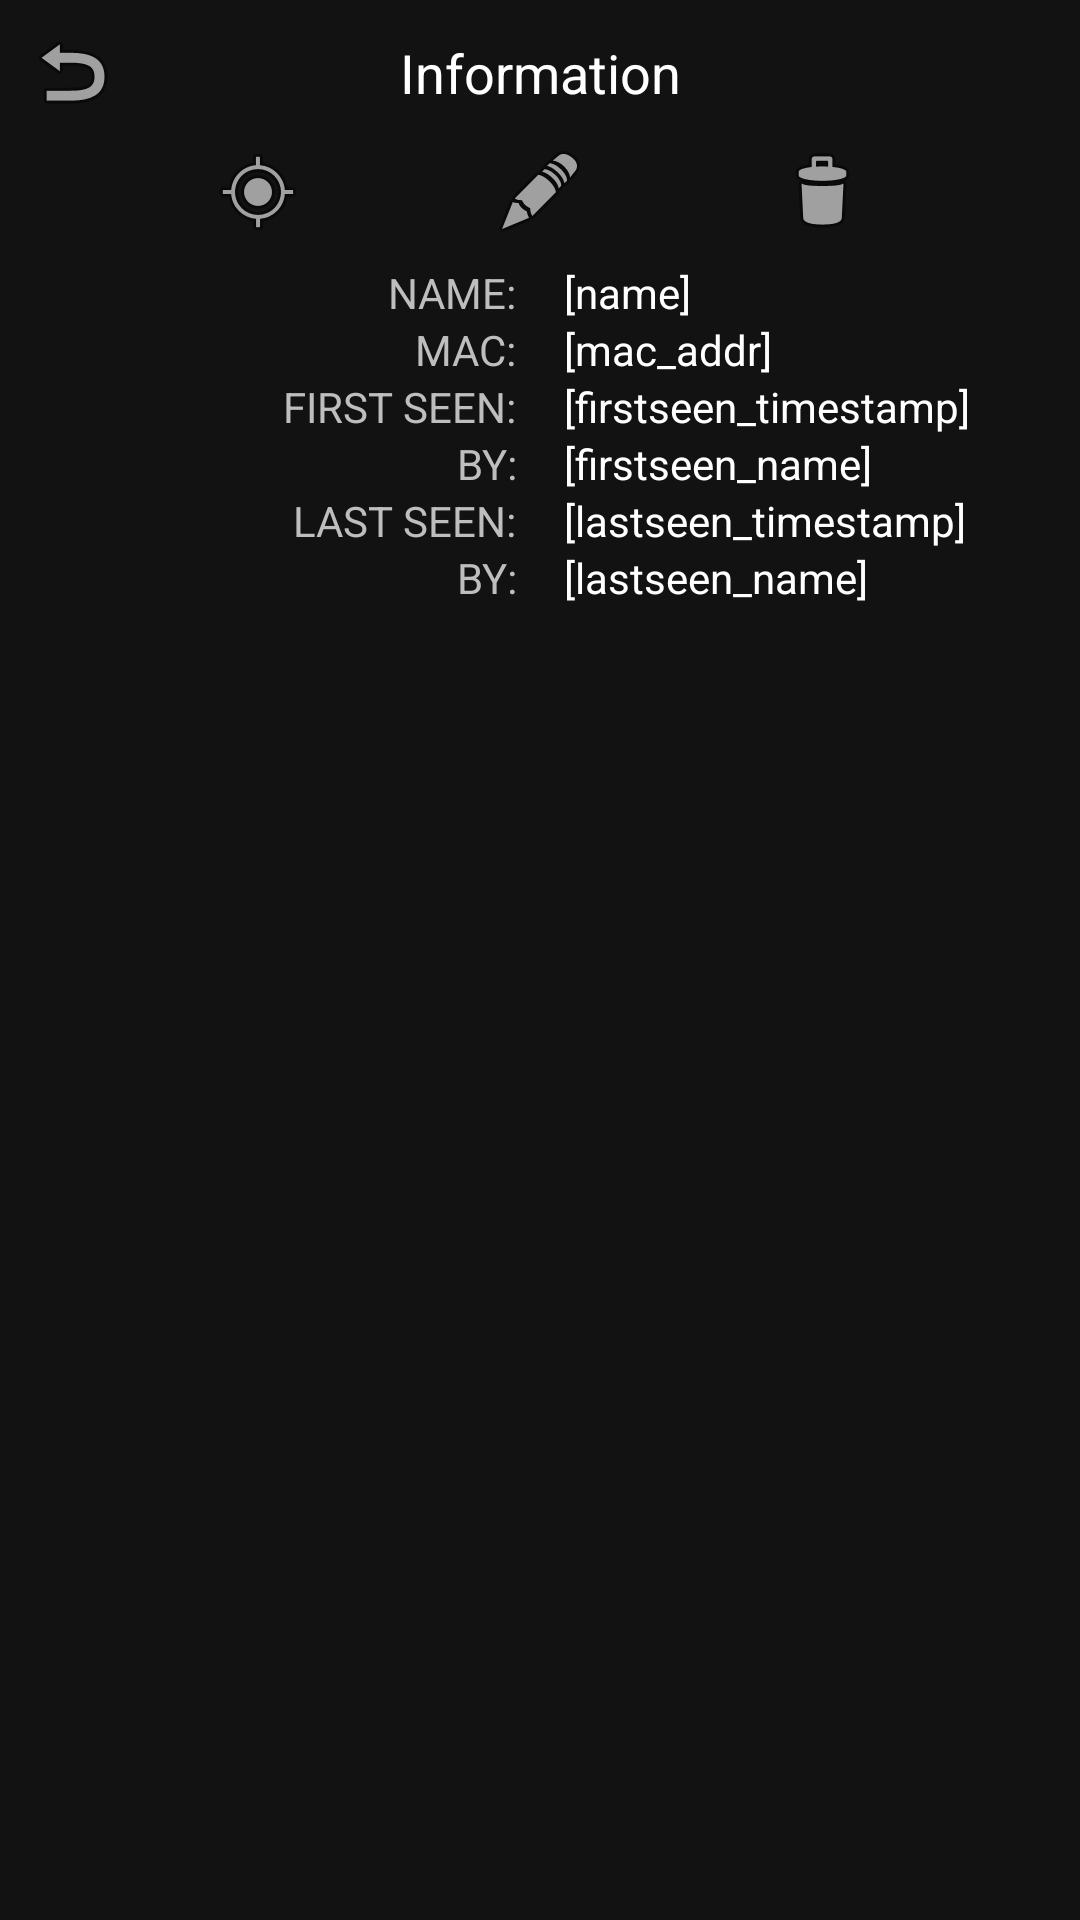

Where to tap for icons on this 1080w x 1920h app screen, as point (x, y):
delete: point (822, 190)
edit: point (539, 191)
mylocation: point (258, 192)
revert: point (73, 72)
